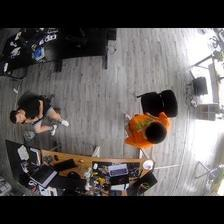normal: (119, 106, 175, 154)
